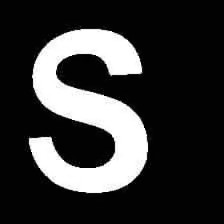LTR_S: (14, 21, 156, 198)
